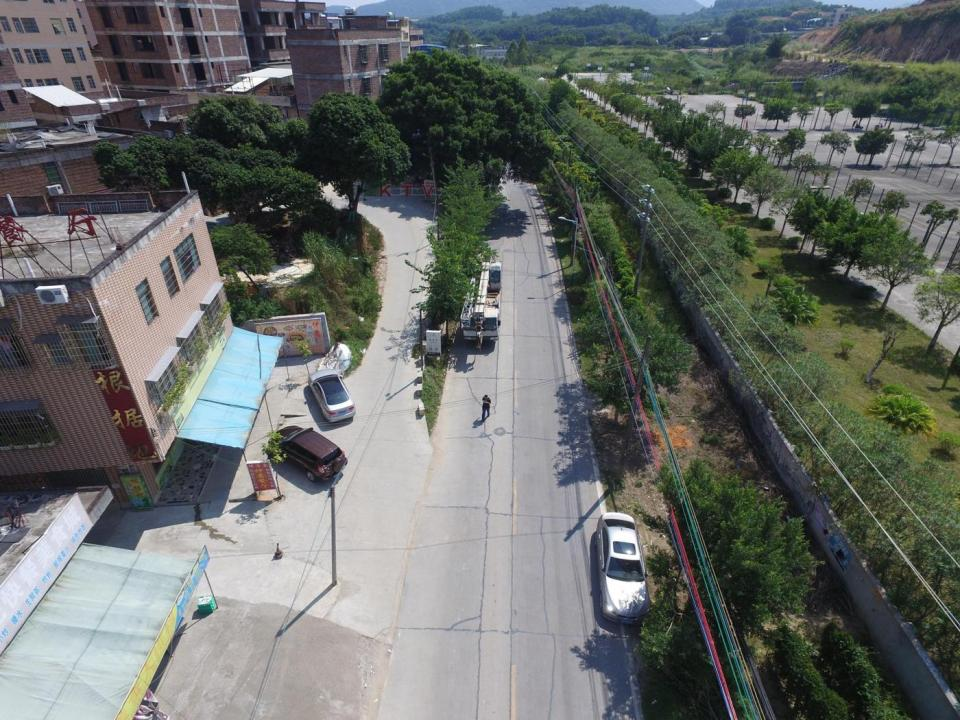car: (595, 512, 650, 630), (272, 426, 345, 481), (308, 369, 357, 422)
truck: (462, 258, 503, 343)
